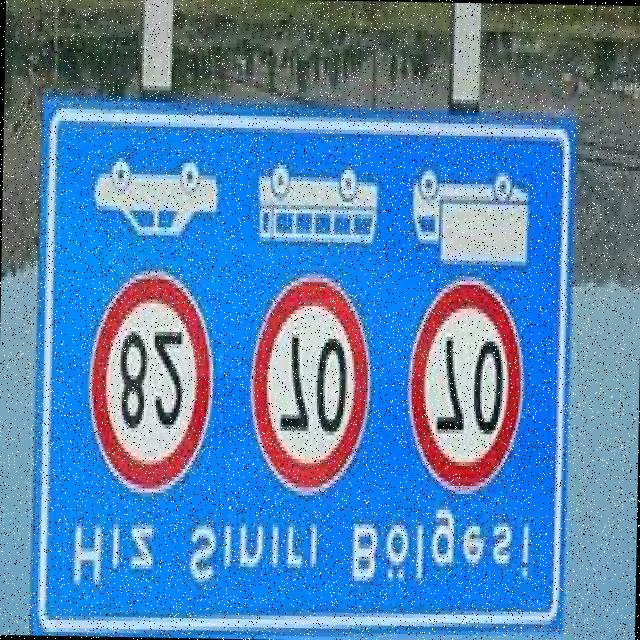speed_limit_70: (242, 269, 383, 502), (405, 273, 528, 502)
